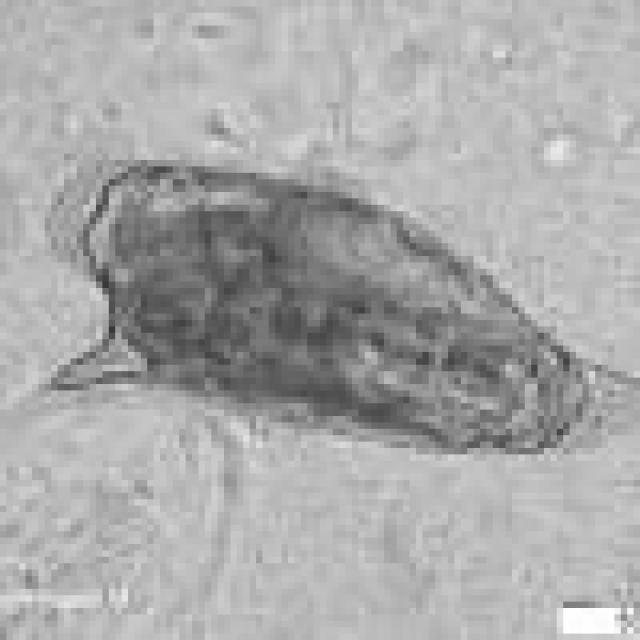Schistosoma: (32, 115, 634, 512)
